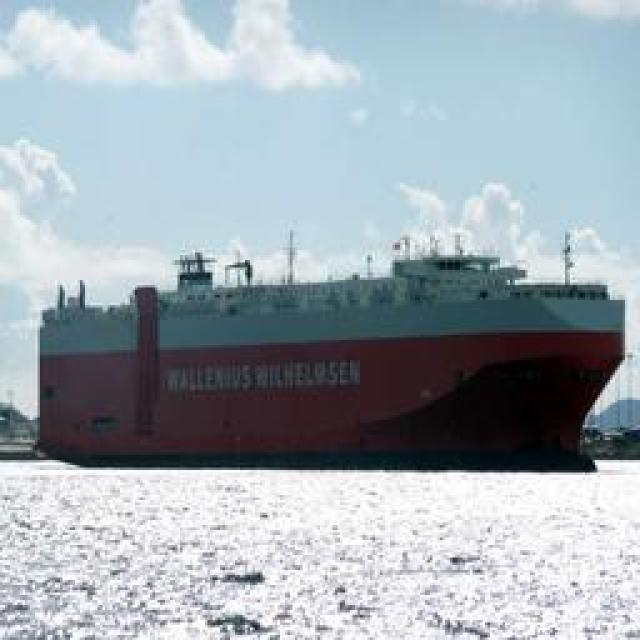Ship: (1, 229, 626, 464)
